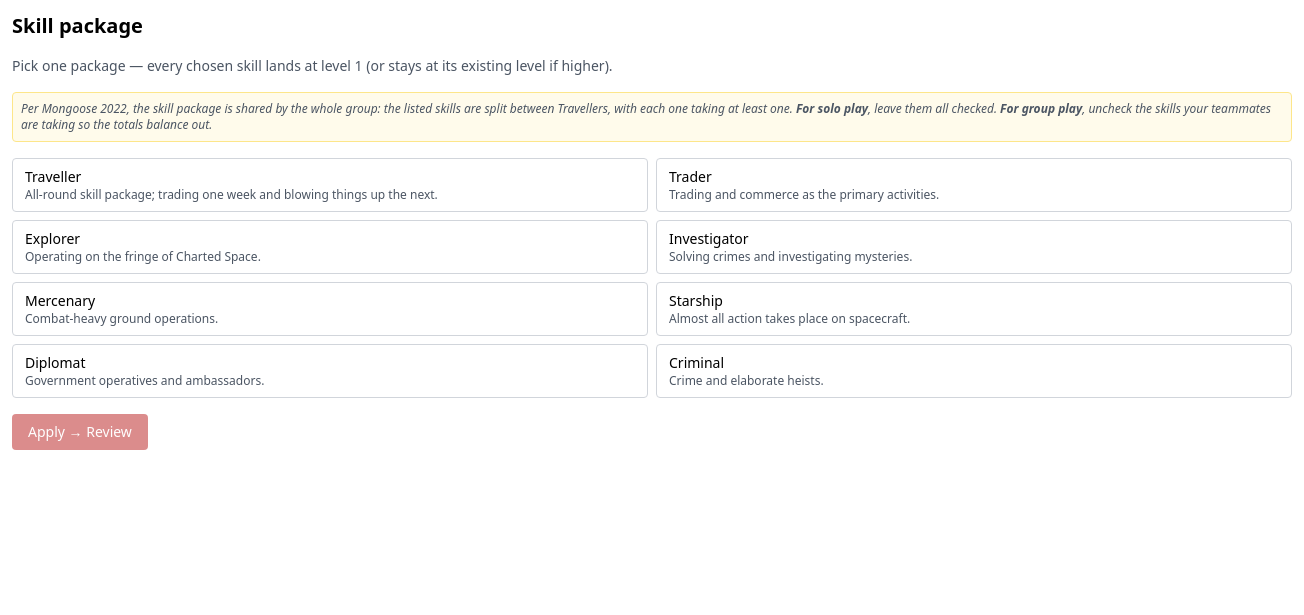
SkillPackageStep — checklist subset selection › "All" button re-checks every box after clearing
Step 1. Click the button "Traveller" → [330, 185], box x1=12 y1=158 x2=648 y2=212
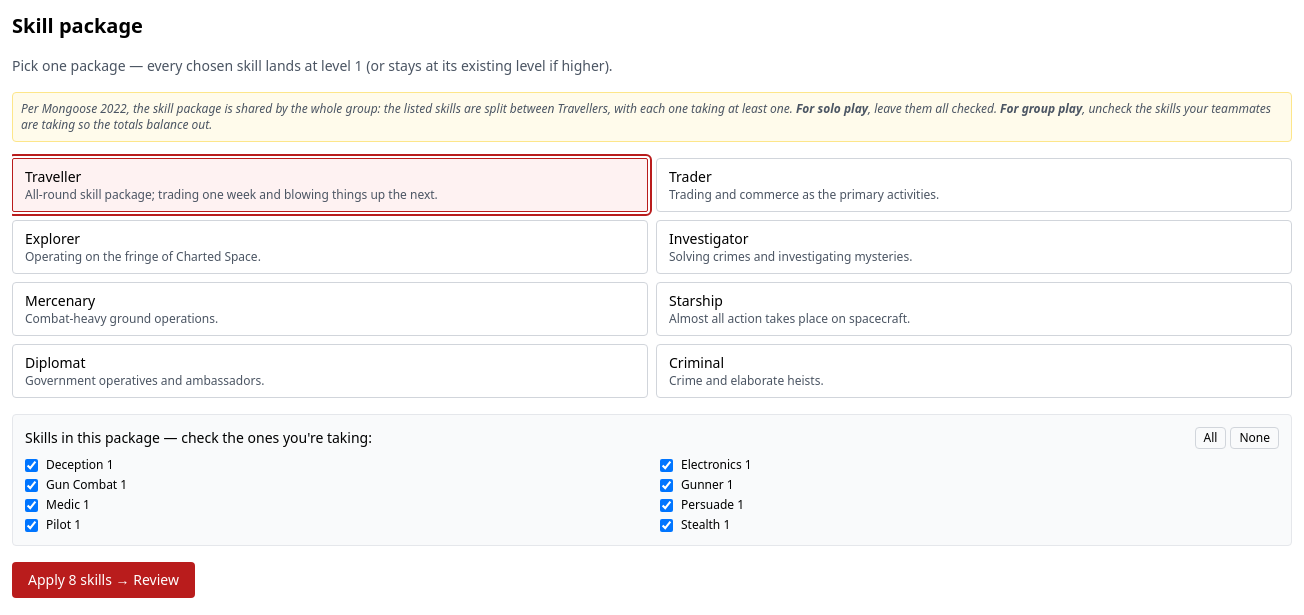
Step 2. Click the button "None" → [1255, 438], box x1=1230 y1=427 x2=1279 y2=449
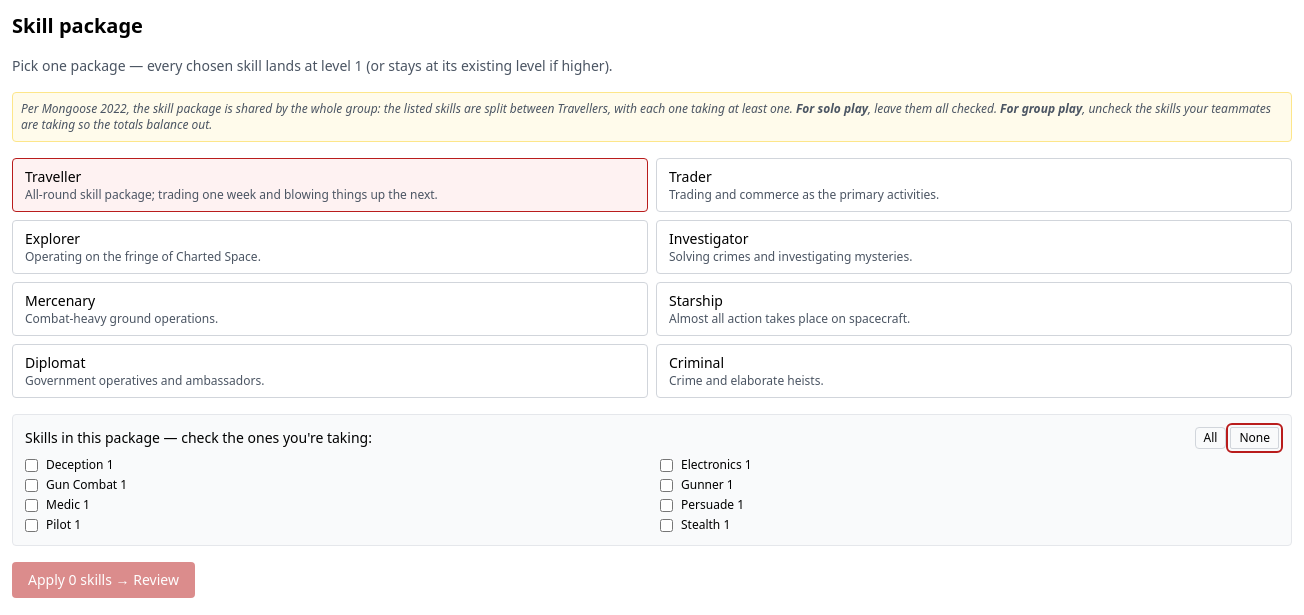
Step 3. Click the button "All" → [1210, 438], box x1=1194 y1=427 x2=1226 y2=449
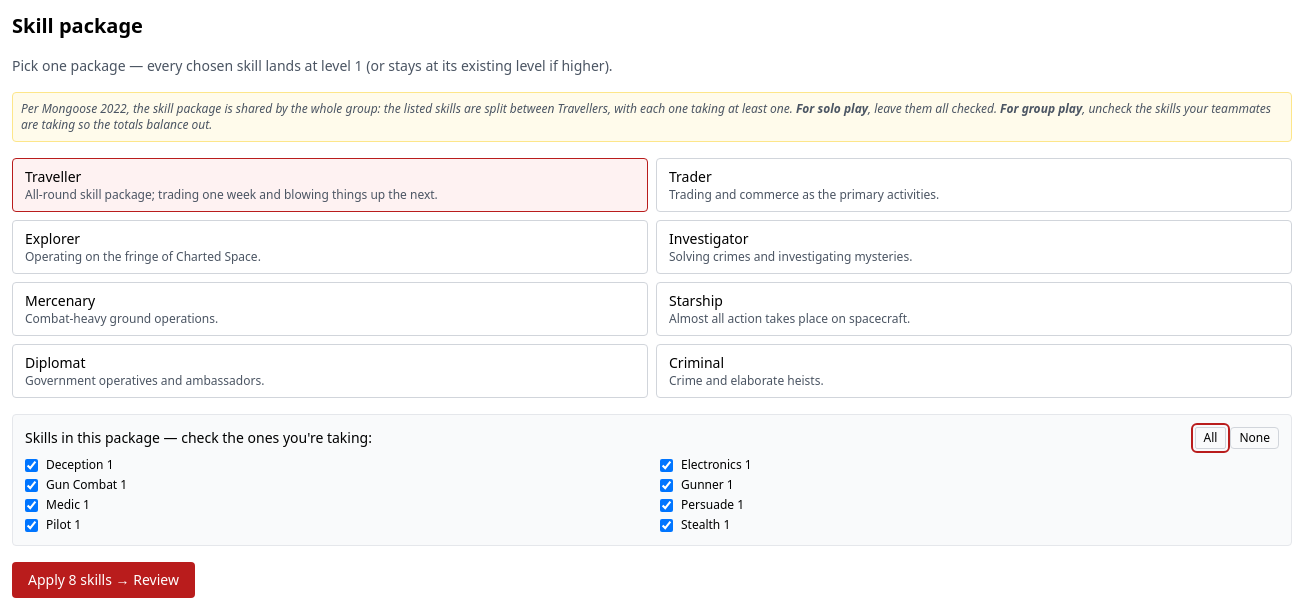
Result: the checkbox labelled "Deception 1" is checked at x1=25 y1=458 x2=38 y2=472
Result: the checkbox labelled "Electronics 1" is checked at x1=660 y1=458 x2=673 y2=472
Result: the checkbox labelled "Gun Combat 1" is checked at x1=25 y1=478 x2=38 y2=492
